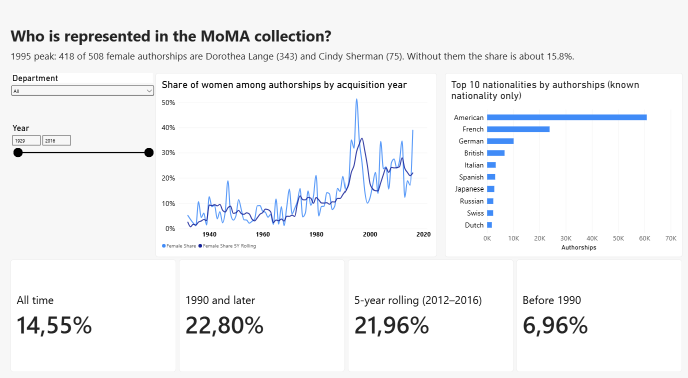

Layout of this report page (visuals, bound fields, positions):
{"tool":"powerbi","page":{"name":"Page 1","canvas":[1920,1080],"ordinal":0},"visuals":[{"type":"cardVisual","fields":{"Data":["artwork_artists.Female Share","artwork_artists.Female Share 1990 and later","artwork_artists.Female Share 5Y Rolling","artwork_artists.Female Share Before 1990"]},"box":[33.3,723.3,1867.5,312.5],"z":0},{"type":"textbox","box":[33.3,73.3,1230,66.7],"z":1000},{"type":"lineChart","title":"Share of women among authorships by acquisition year","fields":{"Category":["dim_date.year"],"Y":["artwork_artists.Female Share","artwork_artists.Female Share 5Y Rolling"]},"box":[436.7,206.7,780,510],"z":2000},{"type":"clusteredBarChart","title":"Top 10 nationalities by authorships (known nationality only)","fields":{"Category":["dim_artist.nationality_clean"],"Y":["artwork_artists.Authorships Known Nationality"]},"box":[1240,206.7,660,510],"z":3000},{"type":"textbox","box":[33.3,140,1663.3,66.7],"z":4000},{"type":"slicer","fields":{"Values":["artworks.department"]},"box":[30,206.7,406.7,103.3],"z":5000},{"type":"slicer","fields":{"Values":["dim_date.year"]},"box":[30,343.3,403.3,300],"z":6000}]}

Visuals, with their boxes in screenshot pixels (x1, y1, x2, y2), scaled from the page's 1920x1080 canvas onto the 688x378 screenshot:
cardVisual - artwork_artists.Female Share x artwork_artists.Female Share 1990 and later: x1=12 y1=253 x2=681 y2=363
textbox: x1=12 y1=26 x2=453 y2=49
"Share of women among authorships by acquisition year" lineChart: x1=156 y1=72 x2=436 y2=251
"Top 10 nationalities by authorships (known nationality only)" clusteredBarChart: x1=444 y1=72 x2=681 y2=251
textbox: x1=12 y1=49 x2=608 y2=72
slicer - artworks.department: x1=11 y1=72 x2=156 y2=108
slicer - dim_date.year: x1=11 y1=120 x2=155 y2=225
